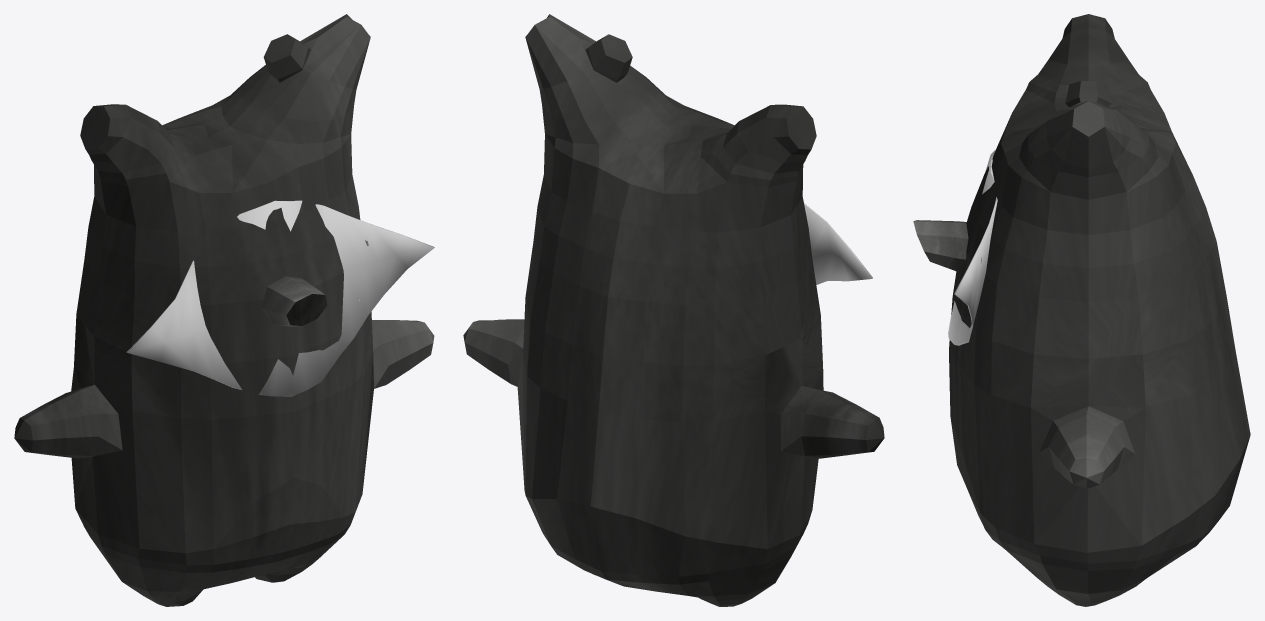
The model's file is frame_0011.obj.
3 views of the same model, side by side, from view 1: azimuth 30°, elevation 25°; view 2: azimuth 150°, elevation 25°; view 3: azimuth 270°, elevation 25° (orthographic).
Parts seen in each view (by area): view 1: korok, leaf, nose; view 2: korok, leaf; view 3: korok, leaf, nose.
Boxes of the visible parts, x1=… form: korok: x1=14, y1=14, x2=434, y2=606; leaf: x1=126, y1=200, x2=434, y2=396; nose: x1=261, y1=276, x2=327, y2=326; korok: x1=463, y1=14, x2=884, y2=606; leaf: x1=804, y1=203, x2=872, y2=284; korok: x1=949, y1=14, x2=1250, y2=606; leaf: x1=948, y1=150, x2=997, y2=345; nose: x1=913, y1=220, x2=968, y2=272.
Bounding box in the file's own units: 1.92 × 2.38 × 1.35.
